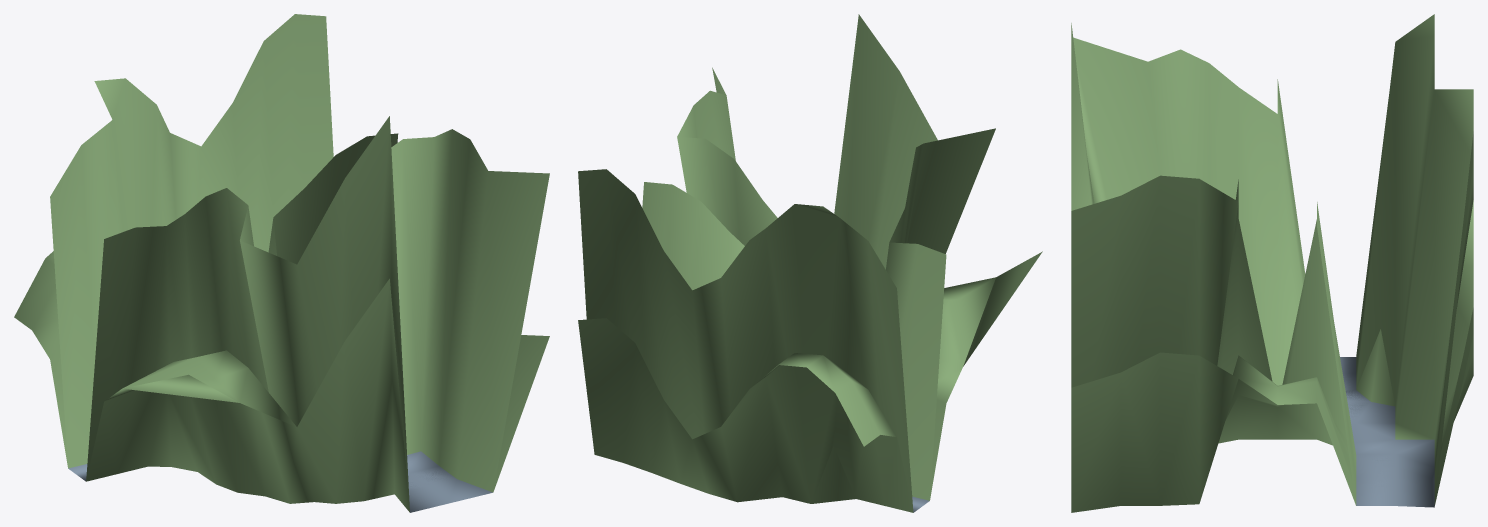
Rendered from level_3.fbx.
3 renders of one model, left to right at view 1: azimuth 30°, elevation 25°; view 2: azimuth 150°, elevation 25°; view 3: azimuth 270°, elevation 25°, orthographic. The views are drawn at different scales.
Visible parts, largest first — view 1: simple, pPlane3; view 2: simple, pPlane3; view 3: simple, pPlane3.
Part boxes in pixels (bbox=[...]): simple: bbox=[50, 14, 549, 512]; pPlane3: bbox=[14, 251, 549, 512]; simple: bbox=[578, 14, 995, 511]; pPlane3: bbox=[578, 251, 1042, 512]; simple: bbox=[1071, 14, 1473, 506]; pPlane3: bbox=[1071, 200, 1473, 512].
Size of the model in its own units: 30.39 by 32.34 by 26.97.
